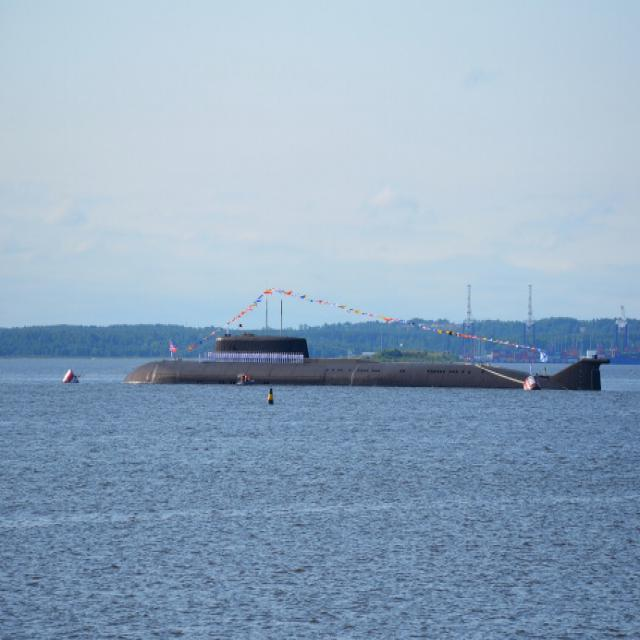submarine: (121, 332, 604, 384)
